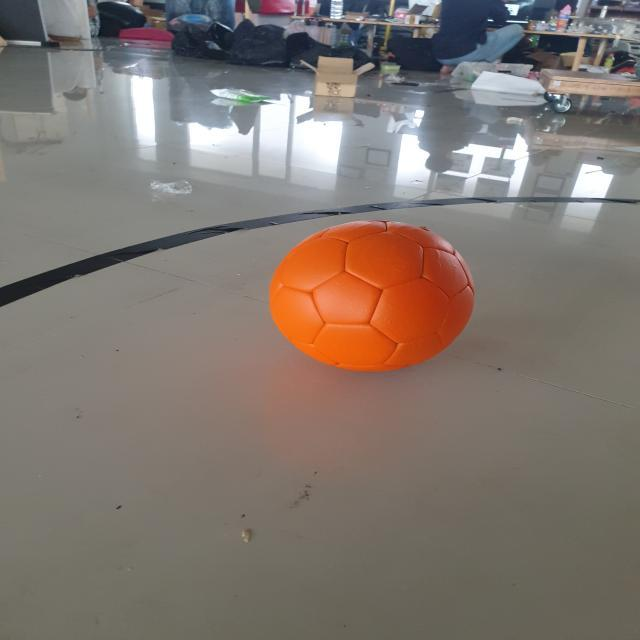bola: (260, 216, 483, 376)
